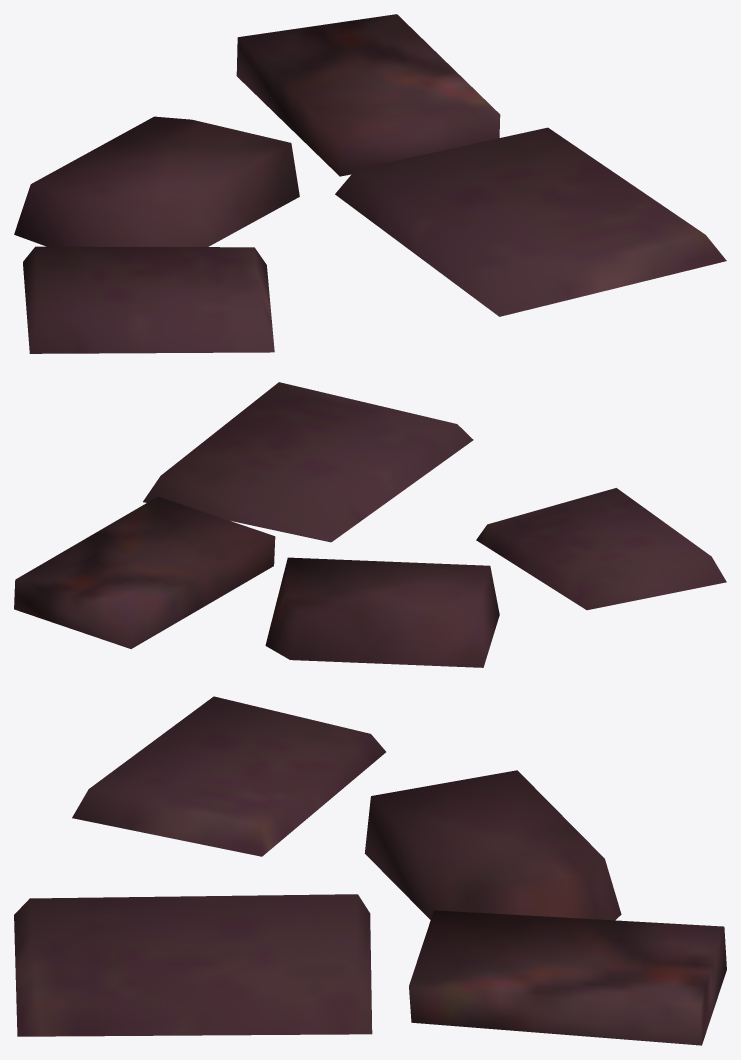
File: 6002_Item_shuishi_3.FBX
3 views of the same model, one above another, from view 1: azimuth 30°, elevation 25°; view 2: azimuth 150°, elevation 25°; view 3: azimuth 270°, elevation 25° (orthographic). The views are drawn at different scales.
Visible parts, largest first — view 1: 6002_Item_shuishi_3; view 2: 6002_Item_shuishi_3; view 3: 6002_Item_shuishi_3.
Boxes of the visible parts, x1,y1,x2,y2 form: 6002_Item_shuishi_3: (14, 14, 726, 353); 6002_Item_shuishi_3: (14, 382, 726, 667); 6002_Item_shuishi_3: (14, 696, 726, 1045).
Size of the model in its own units: 144 by 14.98 by 135.
